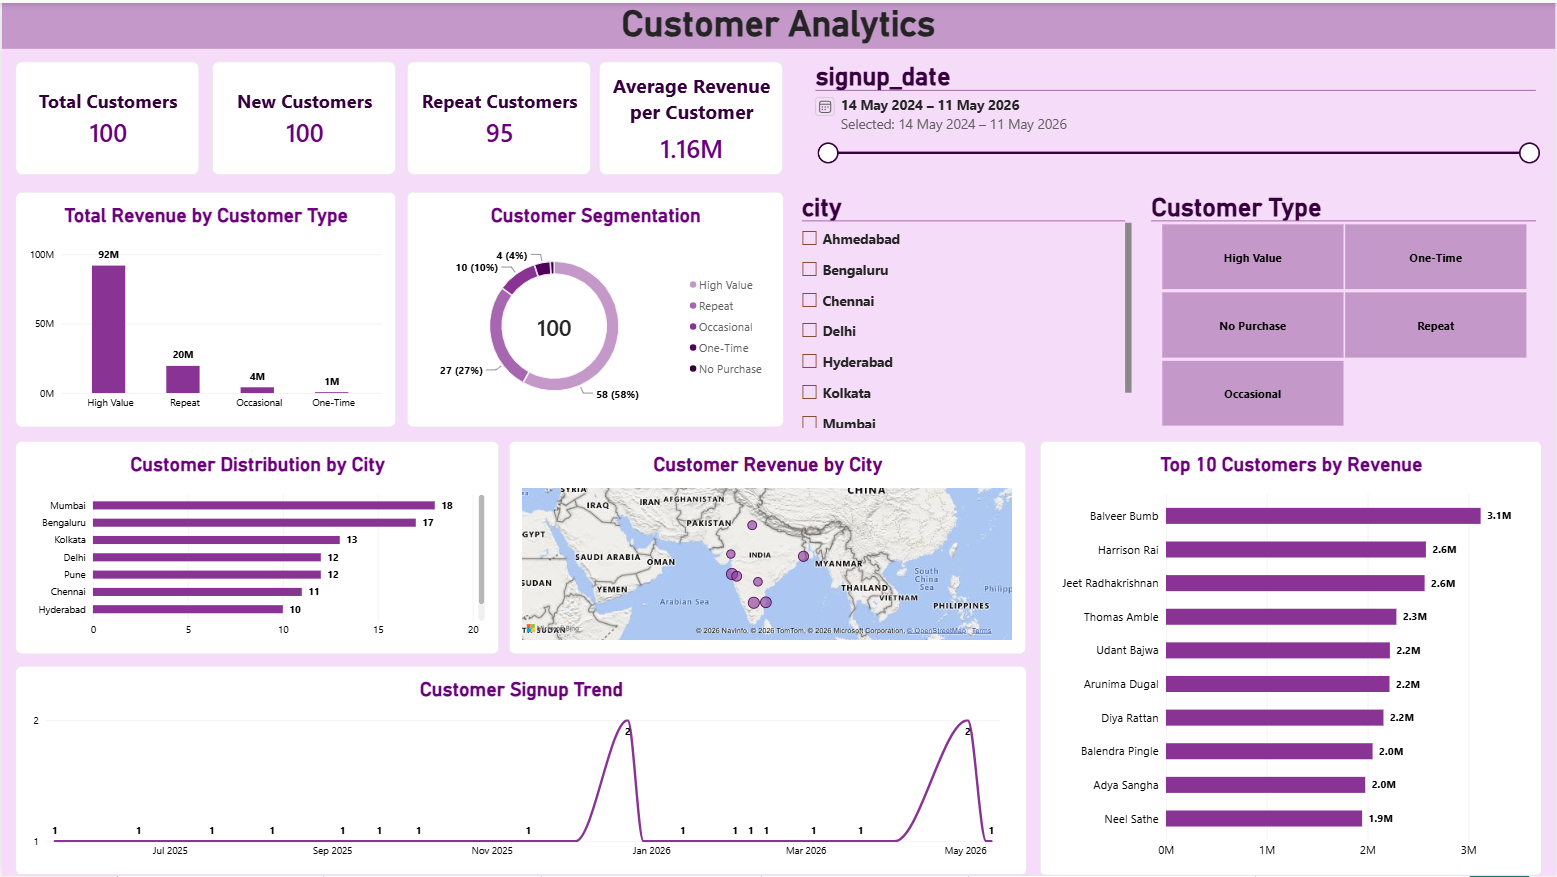

The page's visual inventory and layout, read from the dashboard file:
{"tool":"powerbi","page":{"name":"Customer Analytics","canvas":[1920,1080],"ordinal":1},"visuals":[{"type":"cardVisual","fields":{"Data":["customers.Total Customers"]},"box":[15.9,72.7,227.1,140.8],"z":0},{"type":"cardVisual","fields":{"Data":["customers.New Customers"]},"box":[258.9,72.7,227.1,140.8],"z":1000},{"type":"cardVisual","fields":{"Data":["customers.Repeat Customers"]},"box":[499.7,72.7,227.1,140.8],"z":2000},{"type":"cardVisual","fields":{"Data":["customers.Average Revenue per Customer"]},"box":[738.2,72.7,227.1,140.8],"z":3000},{"type":"barChart","title":"Customer Distribution by City","fields":{"Category":["customers.city"],"Y":["customers.Total Customers"]},"box":[15.9,540.6,597.4,263.5],"z":4000},{"type":"map","title":"Customer Revenue by City","fields":{"Category":["customers.city"],"Size":["order_items.Total Revenue"]},"box":[626.9,540.6,638.8,263.3],"z":5000},{"type":"lineChart","title":"Customer Signup Trend","fields":{"Category":["DateTable.Date"],"Y":["customers.New Customers"]},"box":[15.9,819.9,1249.2,258.9],"z":6000},{"type":"donutChart","title":"Customer Segmentation","fields":{"Category":["customers.Customer Type"],"Y":["customers.Total Customers"]},"box":[499.7,233.9,465.6,290.7],"z":7000},{"type":"barChart","title":"Top 10 Customers by Revenue","fields":{"Category":["customers.customer_name"],"Y":["order_items.Total Revenue"]},"box":[1283.3,540.6,620.1,538.3],"z":8000},{"type":"textbox","title":"Customer Analytics","box":[0,0,1919.3,56.8],"z":13000},{"type":"columnChart","title":"Total Revenue by Customer Type","fields":{"Category":["customers.Customer Type"],"Y":["order_items.Total Revenue"]},"box":[15.9,233.9,470.2,290.7],"z":13001},{"type":"slicer","fields":{"Values":["customers.signup_date"]},"box":[997.1,72.7,906.3,140.8],"z":13002},{"type":"slicer","fields":{"Values":["customers.city"]},"box":[981.2,233.9,415.6,290.7],"z":13003},{"type":"slicer","fields":{"Values":["customers.Customer Type"]},"box":[1412.8,233.9,490.6,290.7],"z":13004}]}

Visuals, with their boxes in screenshot pixels (x1, y1, x2, y2), scaled from the page's 1920x1080 canvas onto the 1557x877 screenshot:
cardVisual - customers.Total Customers: crop(13, 59, 197, 173)
cardVisual - customers.New Customers: crop(210, 59, 394, 173)
cardVisual - customers.Repeat Customers: crop(405, 59, 589, 173)
cardVisual - customers.Average Revenue per Customer: crop(599, 59, 783, 173)
"Customer Distribution by City" barChart: crop(13, 439, 497, 653)
"Customer Revenue by City" map: crop(508, 439, 1026, 653)
"Customer Signup Trend" lineChart: crop(13, 666, 1026, 876)
"Customer Segmentation" donutChart: crop(405, 190, 783, 426)
"Top 10 Customers by Revenue" barChart: crop(1041, 439, 1544, 876)
"Customer Analytics" textbox: crop(0, 0, 1556, 46)
"Total Revenue by Customer Type" columnChart: crop(13, 190, 394, 426)
slicer - customers.signup_date: crop(809, 59, 1544, 173)
slicer - customers.city: crop(796, 190, 1133, 426)
slicer - customers.Customer Type: crop(1146, 190, 1544, 426)
